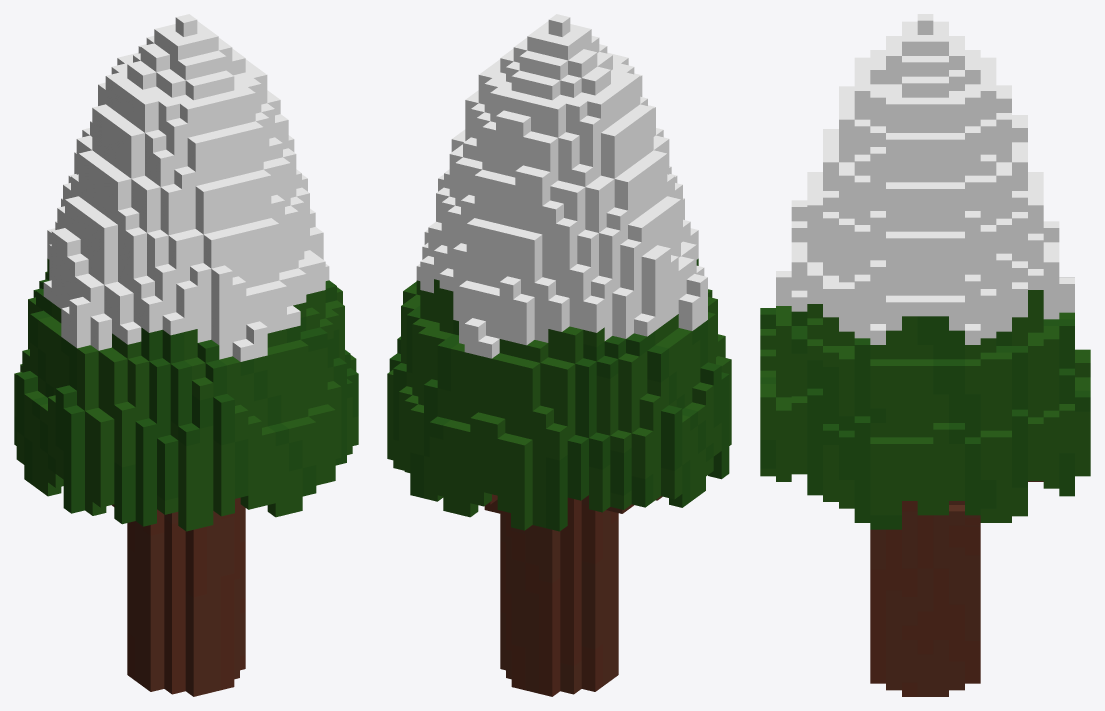
The model's file is snowy_tree.obj.
3 renders of one model, left to right at view 1: azimuth 30°, elevation 25°; view 2: azimuth 150°, elevation 25°; view 3: azimuth 270°, elevation 25°, orthographic.
Bounding box in the file's own units: 2.1 × 4.6 × 2.1.
1 material, 1 textured.
